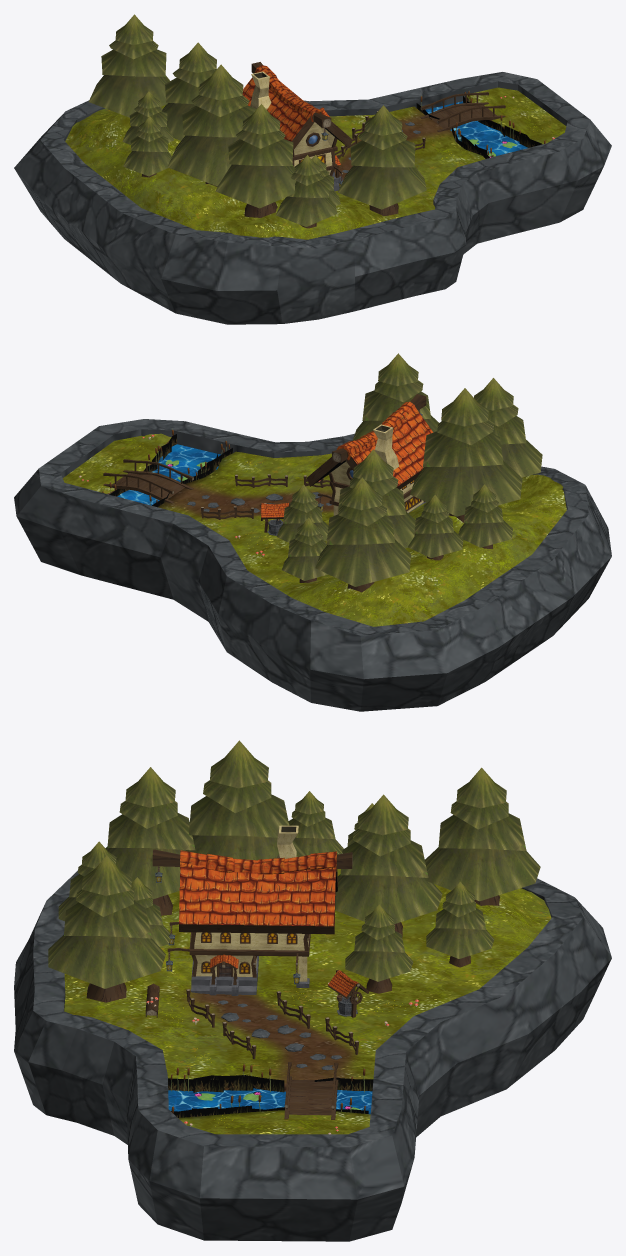
Rendered from forest.glb.
The picture shows the model from 3 angles, top to bottom: view 1: azimuth 30°, elevation 25°; view 2: azimuth 150°, elevation 25°; view 3: azimuth 270°, elevation 25°; orthographic projection. The views are drawn at different scales.
Parts seen in each view (by area): view 1: Box233, Cylinder008, house, Object001_04 - Default_0; view 2: Box233, Cylinder008, house, Object001_04 - Default_0, Box189, well; view 3: Box233, Cylinder008, house, Object001_04 - Default_0, Box189, well.
Part boxes in pixels (x1,y1,x2,y2): Box233: (14, 72, 611, 324); Cylinder008: (88, 14, 426, 228); house: (242, 62, 352, 191); Object001_04 - Default_0: (416, 96, 542, 158); Box233: (14, 419, 611, 711); Cylinder008: (277, 353, 542, 592); house: (307, 394, 433, 515); Object001_04 - Default_0: (109, 434, 232, 507); Box189: (201, 474, 330, 519); well: (259, 503, 290, 535); Box233: (14, 859, 611, 1241); Cylinder008: (48, 740, 540, 1002); house: (152, 825, 352, 995); Object001_04 - Default_0: (168, 1075, 373, 1117); Box189: (186, 989, 359, 1059); well: (328, 970, 369, 1017).
Size of the model in its own units: 3462 by 1381 by 2772.
Materials: 5 (5 with a texture image).
